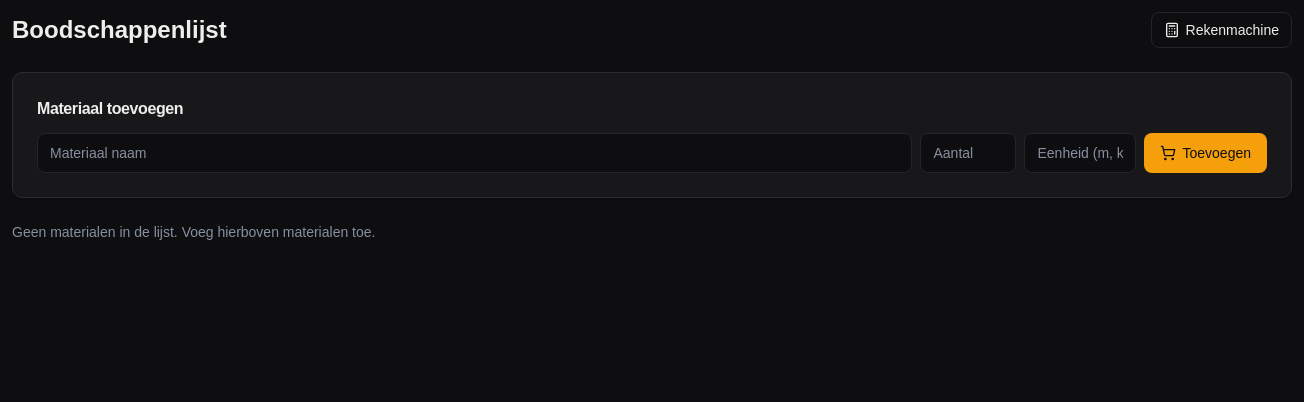
Test: ShoppingListPage › adds an item to the list when Toevoegen is clicked
The image size is (1304, 402).
Type "Cement" into the field with placeholder "Materiaal naam" at (475, 153), box [37, 133, 912, 173]
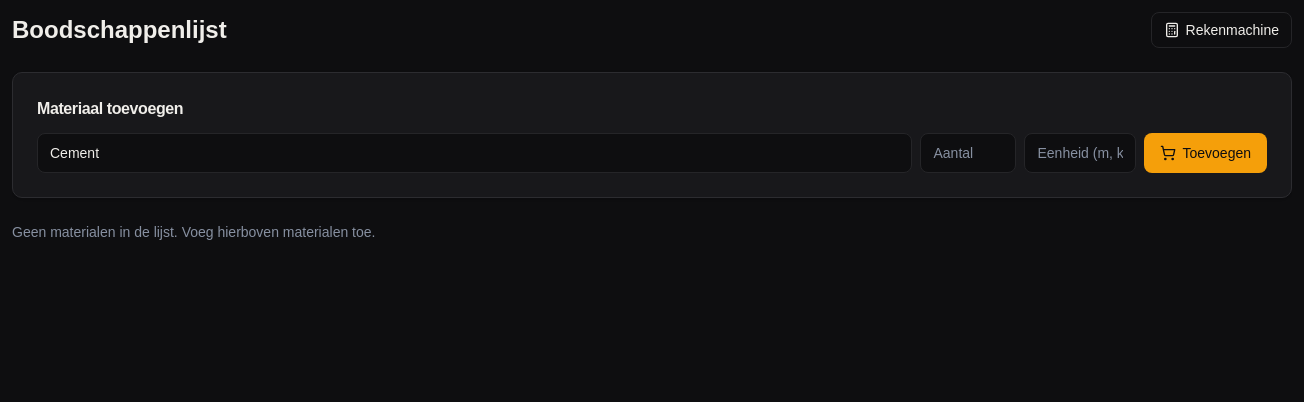
Type "10" into the field with placeholder "Aantal" at (968, 153), box [920, 133, 1016, 173]
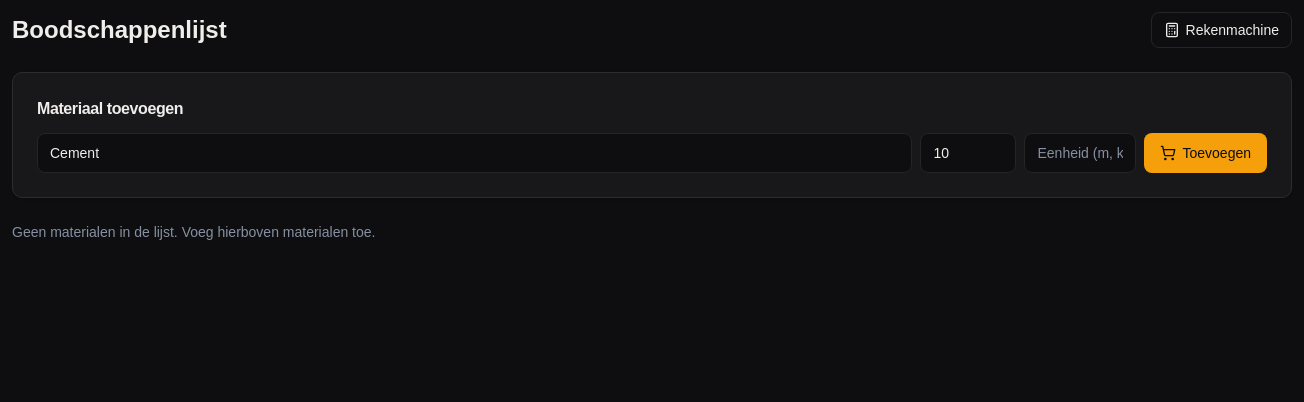
Type "kg" into the field with placeholder "Eenheid (m, kg…)" at (1080, 153), box [1024, 133, 1136, 173]
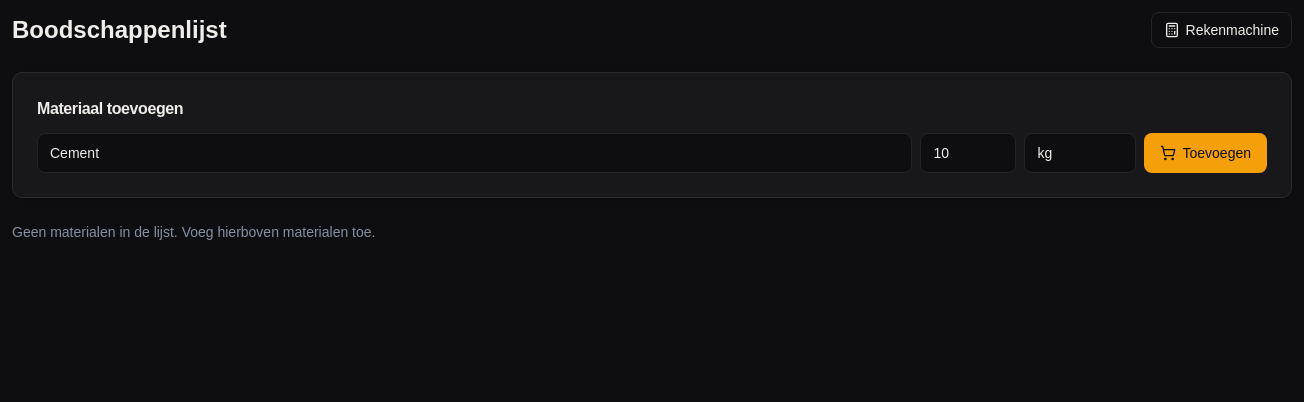
Click the button "Toevoegen" at (1206, 153), box [1144, 133, 1267, 173]
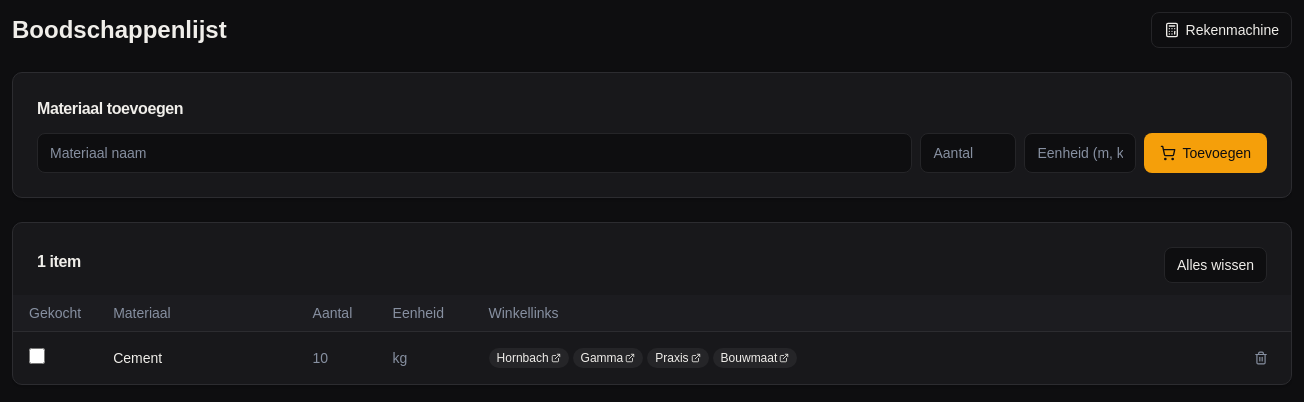
Check: the text "Cement" is shown, box [113, 350, 162, 366]
Check: the text "10" is shown, box [296, 332, 376, 384]
Check: the text "kg" is shown, box [376, 332, 472, 384]
